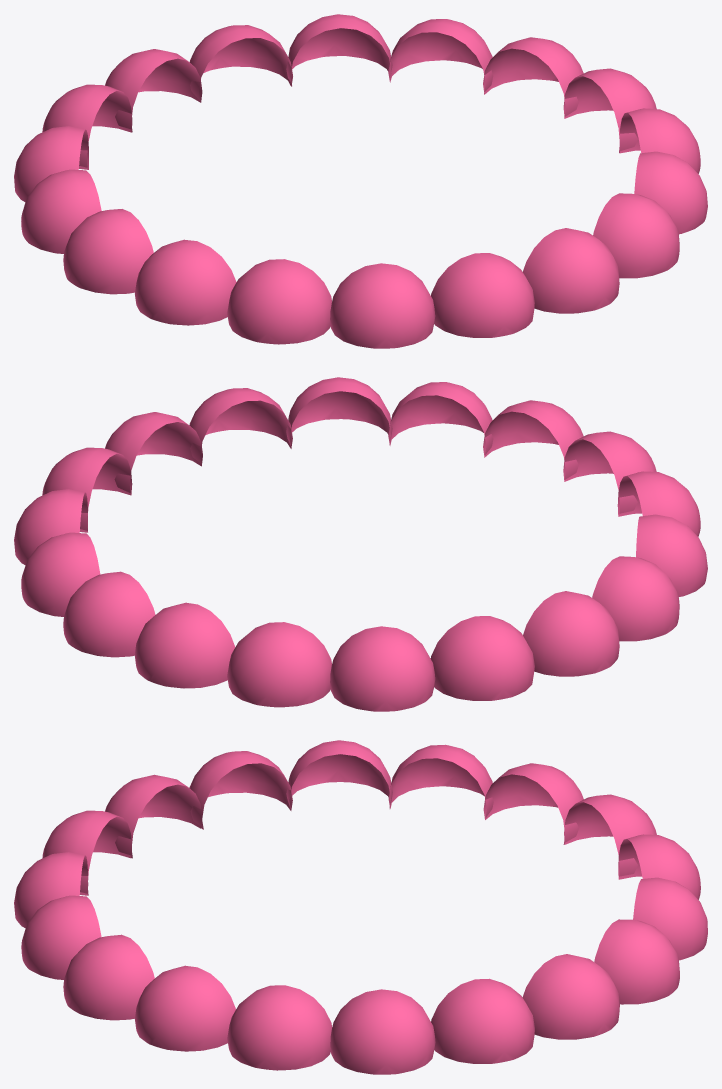
File: Cake_Sml_itemsSide_Pearls-A.FBX
3 views of the same model, one above another, from view 1: azimuth 30°, elevation 25°; view 2: azimuth 150°, elevation 25°; view 3: azimuth 270°, elevation 25° (orthographic).
Parts seen in each view (by area): view 1: Cake_Sml_itemsSide_Pearls-A; view 2: Cake_Sml_itemsSide_Pearls-A; view 3: Cake_Sml_itemsSide_Pearls-A.
Boxes of the visible parts, x1,y1,x2,y2 form: Cake_Sml_itemsSide_Pearls-A: (14,14,707,348); Cake_Sml_itemsSide_Pearls-A: (14,377,707,711); Cake_Sml_itemsSide_Pearls-A: (14,740,707,1074).
Size of the model in its own units: 5561 by 521 by 5545.
